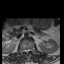CCS_normal: (26, 47, 28, 55)
LFS_normal: (30, 46, 32, 53)
LLS_normal: (28, 46, 30, 53)
RFS_normal: (22, 47, 24, 53)
RLS_normal: (24, 47, 26, 54)
